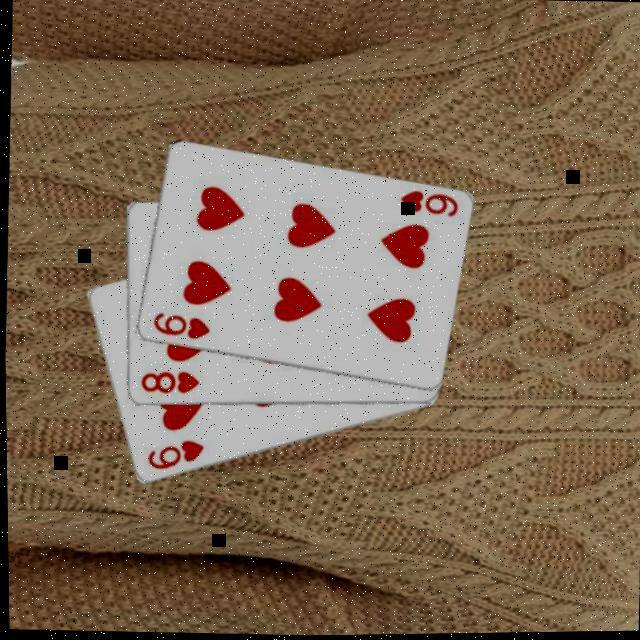6H: (143, 435, 206, 474), (149, 308, 212, 343), (397, 186, 460, 221)
8H: (136, 367, 201, 398)
